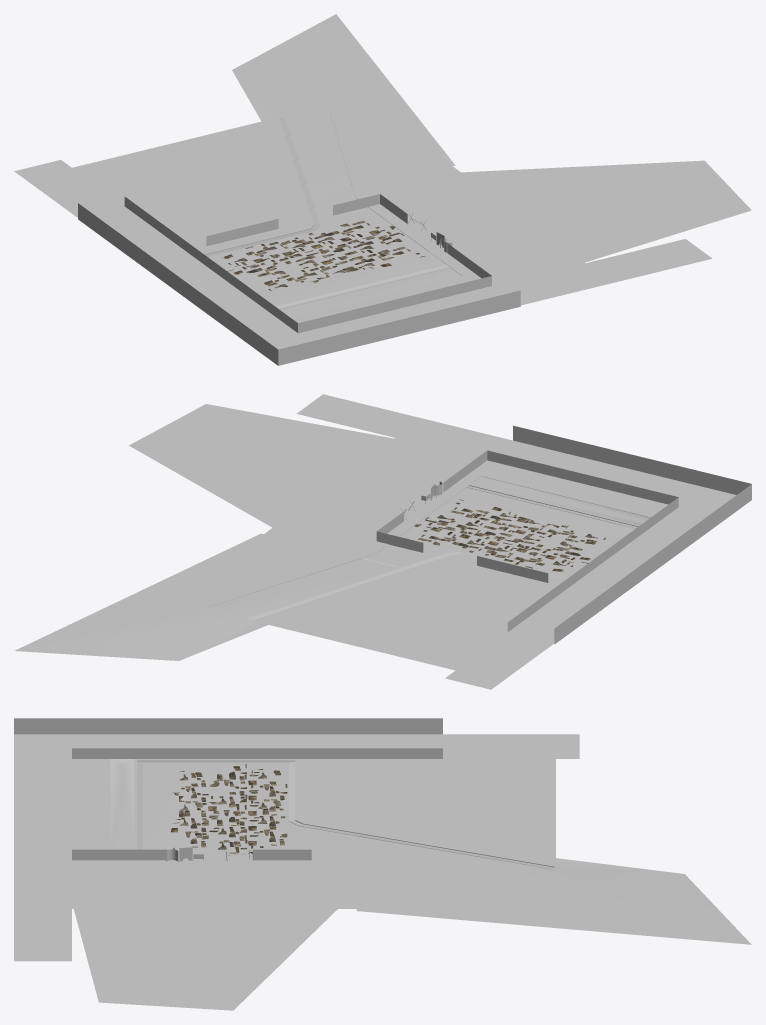
3 views of the same model, one above another, from view 1: azimuth 30°, elevation 25°; view 2: azimuth 150°, elevation 25°; view 3: azimuth 270°, elevation 25° (orthographic). The views are drawn at different scales.
Visible parts, largest first — view 1: _O_OBJ_jimen, gr_O_OBJ__O_AUTOSKELID_O_SORTBIASm30000_2, _O_OBJ_pPlane51_, _O_OBJ_pPlane19176, bokeashi__O_OBJ_pPlane, _O_OBJ_group462, _O_OBJ_pPlane19171, bokeashi__O_OBJ_pPlane19202, bokeashi__O_OBJ_pPlane19203, _O_OBJ_group438, bokeashi__O_OBJ_pPlane19199_O_SORTBIAS10000_, bokeashi__O_OBJ_pPlane19200_O_SORTBIAS10000_ (+2 smaller); view 2: _O_OBJ_jimen, gr_O_OBJ__O_AUTOSKELID_O_SORTBIASm30000_2, _O_OBJ_pPlane51_, _O_OBJ_pPlane19176, bokeashi__O_OBJ_pPlane, _O_OBJ_group462, _O_OBJ_pPlane19171, bokeashi__O_OBJ_pPlane19202, bokeashi__O_OBJ_pPlane19203, _O_OBJ_group438, bokeashi__O_OBJ_pPlane19199_O_SORTBIAS10000_, bokeashi__O_OBJ_pPlane19200_O_SORTBIAS10000_ (+4 smaller); view 3: _O_OBJ_jimen, gr_O_OBJ__O_AUTOSKELID_O_SORTBIASm30000_2, _O_OBJ_pPlane51_, _O_OBJ_pPlane19176, _O_OBJ_group462, bokeashi__O_OBJ_pPlane, _O_OBJ_pPlane19171, bokeashi__O_OBJ_pPlane19203, bokeashi__O_OBJ_pPlane19200_O_SORTBIAS10000_, _O_OBJ_group438, _O_OBJ_O_SORTBIASm1000000_pPlane19228, bokeashi__O_OBJ_pPlane19206_O_SORTBIAS5000_ (+2 smaller).
Boxes of the visible parts, x1,y1,x2,y2 form: _O_OBJ_jimen: (169,117,584,323); gr_O_OBJ__O_AUTOSKELID_O_SORTBIASm30000_2: (461,160,751,262); _O_OBJ_pPlane51_: (232,14,455,200); _O_OBJ_pPlane19176: (72,118,301,228); bokeashi__O_OBJ_pPlane: (14,160,309,349); _O_OBJ_group462: (298,239,711,341); _O_OBJ_pPlane19171: (329,102,459,197); bokeashi__O_OBJ_pPlane19202: (278,290,520,365); bokeashi__O_OBJ_pPlane19203: (78,203,278,365); _O_OBJ_group438: (221,220,425,290); bokeashi__O_OBJ_pPlane19199_O_SORTBIAS10000_: (298,276,491,333); bokeashi__O_OBJ_pPlane19200_O_SORTBIAS10000_: (124,196,297,332); _O_OBJ_jimen: (249,438,667,621); gr_O_OBJ__O_AUTOSKELID_O_SORTBIASm30000_2: (129,404,393,527); _O_OBJ_pPlane51_: (14,533,400,660); _O_OBJ_pPlane19176: (254,573,529,670); bokeashi__O_OBJ_pPlane: (445,487,736,689); _O_OBJ_group462: (296,394,705,506); _O_OBJ_pPlane19171: (179,528,375,607); bokeashi__O_OBJ_pPlane19202: (513,425,751,494); bokeashi__O_OBJ_pPlane19203: (554,484,751,644); _O_OBJ_group438: (414,499,605,572); bokeashi__O_OBJ_pPlane19199_O_SORTBIAS10000_: (487,450,678,504); bokeashi__O_OBJ_pPlane19200_O_SORTBIAS10000_: (507,497,678,631); _O_OBJ_jimen: (72,759,555,908); gr_O_OBJ__O_AUTOSKELID_O_SORTBIASm30000_2: (74,909,337,1010); _O_OBJ_pPlane51_: (356,836,751,944); _O_OBJ_pPlane19176: (371,759,555,865); _O_OBJ_group462: (14,759,71,961); bokeashi__O_OBJ_pPlane: (14,734,579,758); _O_OBJ_pPlane19171: (338,854,548,908); bokeashi__O_OBJ_pPlane19203: (14,718,442,734); bokeashi__O_OBJ_pPlane19200_O_SORTBIAS10000_: (72,748,442,758); _O_OBJ_group438: (171,764,287,853); _O_OBJ_O_SORTBIASm1000000_pPlane19228: (143,763,288,772); bokeashi__O_OBJ_pPlane19206_O_SORTBIAS5000_: (72,849,167,860).
Size of the model in its own units: 43891 by 3583 by 49558.
